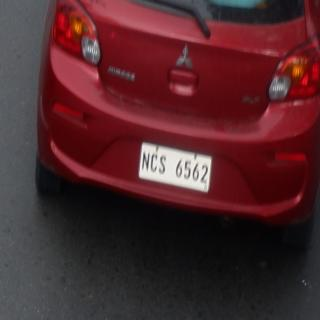license: (139, 143, 213, 194)
